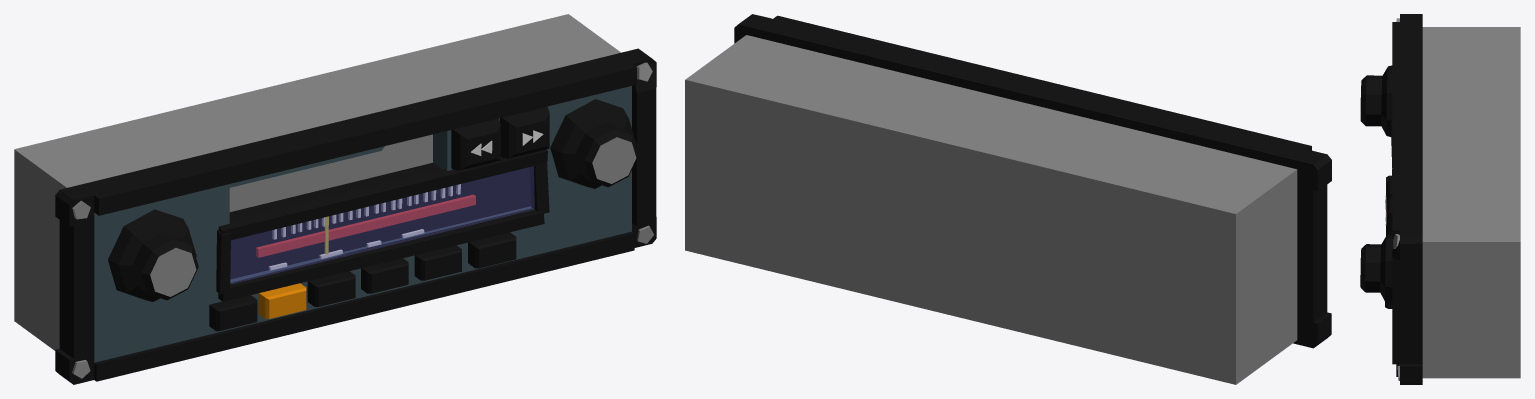
The picture shows the model from 3 angles, left to right: view 1: azimuth 30°, elevation 25°; view 2: azimuth 150°, elevation 25°; view 3: azimuth 270°, elevation 25°; orthographic projection. The views are drawn at different scales.
Parts seen in each view (by area): view 1: node_MeshObject-1208150016-PolyPaper22, node_MeshObject-636070912-PolyGlass24; view 2: node_MeshObject-1208150016-PolyPaper22; view 3: node_MeshObject-1208150016-PolyPaper22.
Part boxes in pixels (<box>): node_MeshObject-1208150016-PolyPaper22: <box>14,14,656,384</box>; node_MeshObject-636070912-PolyGlass24: <box>230,166,534,283</box>; node_MeshObject-1208150016-PolyPaper22: <box>685,14,1331,384</box>; node_MeshObject-1208150016-PolyPaper22: <box>1360,14,1520,384</box>.
Bounding box in the file's own units: 1.43 × 0.4301 × 0.4251.
